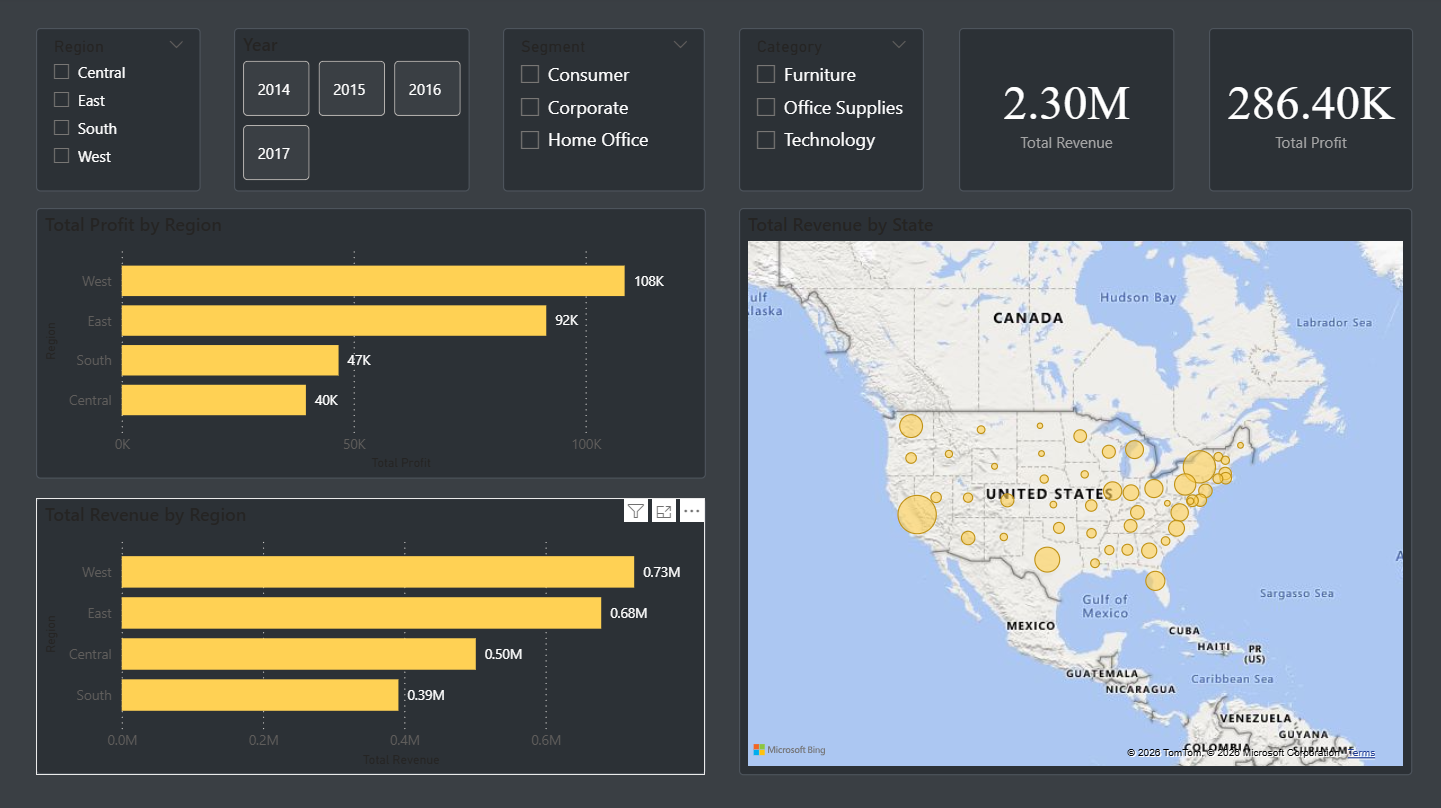

Layout of this report page (visuals, bound fields, positions):
{"tool":"powerbi","page":{"name":"Regional Analytics","canvas":[1280,720],"ordinal":3},"visuals":[{"type":"clusteredBarChart","fields":{"Category":["Orders.Region"],"Y":["Date_Table.Total Revenue"]},"box":[32.7,444.5,593.6,245.5],"z":0},{"type":"barChart","fields":{"Y":["Date_Table.Total Profit"],"Category":["Orders.Region"]},"box":[32.7,187.3,593.6,240],"z":1000},{"type":"map","fields":{"Category":["Orders.State"],"Size":["Date_Table.Total Revenue"]},"box":[656.4,187.3,597.3,502.7],"z":2000},{"type":"slicer","fields":{"Values":["Orders.Segment"]},"box":[447.3,27.3,179.1,144.5],"z":3000},{"type":"slicer","fields":{"Values":["Orders.Region"]},"box":[32.7,27.3,146.4,144.5],"z":4000},{"type":"slicer","fields":{"Values":["Orders.Category"]},"box":[656.4,27.3,163.6,144.5],"z":5000},{"type":"advancedSlicerVisual","fields":{"Values":["Date_Table.Year"]},"box":[208.2,27.3,209.1,144.5],"z":6000},{"type":"card","fields":{"Values":["Date_Table.Total Revenue"]},"box":[850.9,27.3,190.9,144.5],"z":6001},{"type":"card","fields":{"Values":["Date_Table.Total Profit"]},"box":[1072.7,27.3,180.9,144.5],"z":6002}]}

Visuals, with their boxes in screenshot pixels (x1, y1, x2, y2), scaled from the page's 1280x720 canvas onto the 1441x808 screenshot:
clusteredBarChart - Orders.Region x Date_Table.Total Revenue: x1=37 y1=499 x2=705 y2=774
barChart - Date_Table.Total Profit x Orders.Region: x1=37 y1=210 x2=705 y2=480
map - Orders.State x Date_Table.Total Revenue: x1=739 y1=210 x2=1411 y2=774
slicer - Orders.Segment: x1=504 y1=31 x2=705 y2=193
slicer - Orders.Region: x1=37 y1=31 x2=202 y2=193
slicer - Orders.Category: x1=739 y1=31 x2=923 y2=193
advancedSlicerVisual - Date_Table.Year: x1=234 y1=31 x2=470 y2=193
card - Date_Table.Total Revenue: x1=958 y1=31 x2=1173 y2=193
card - Date_Table.Total Profit: x1=1208 y1=31 x2=1411 y2=193
